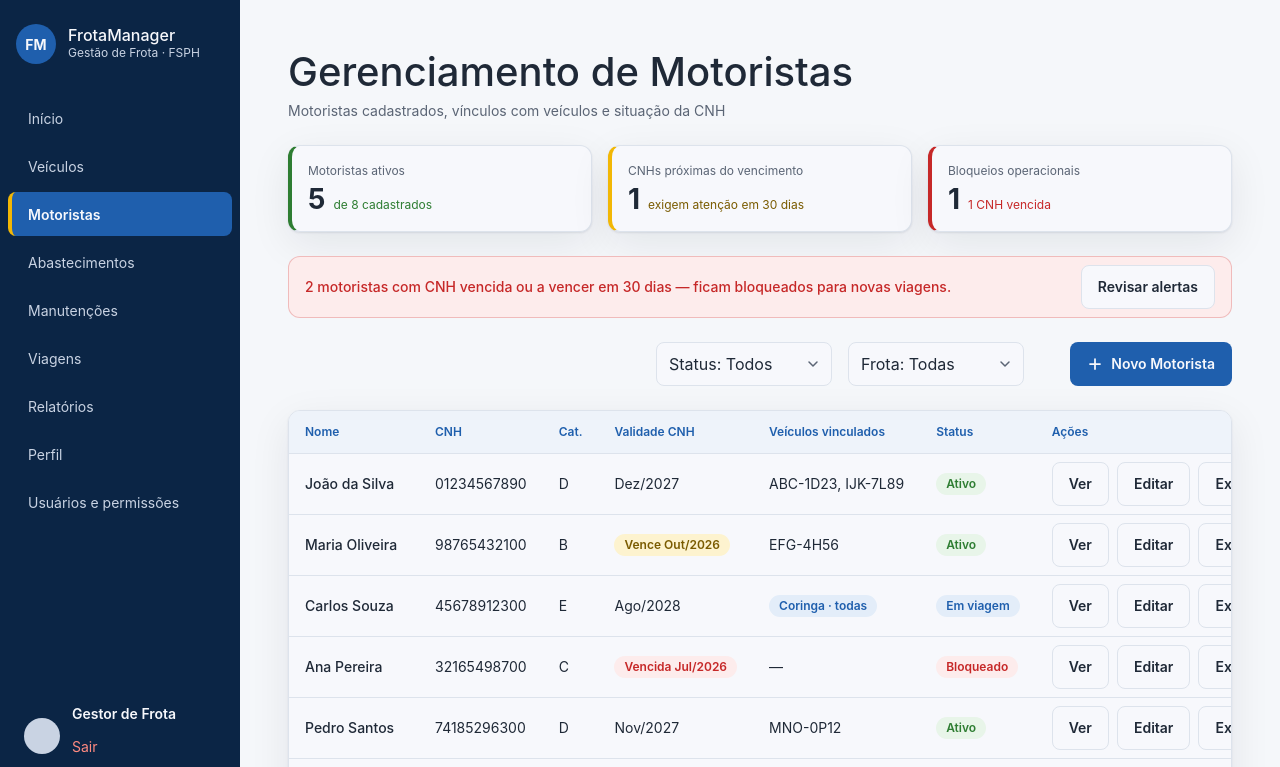
"Revisar alertas" mostra só quem tem CNH vencida ou a vencer
Click the button "Revisar alertas".
click(1148, 287)  # box [1081, 265, 1215, 309]
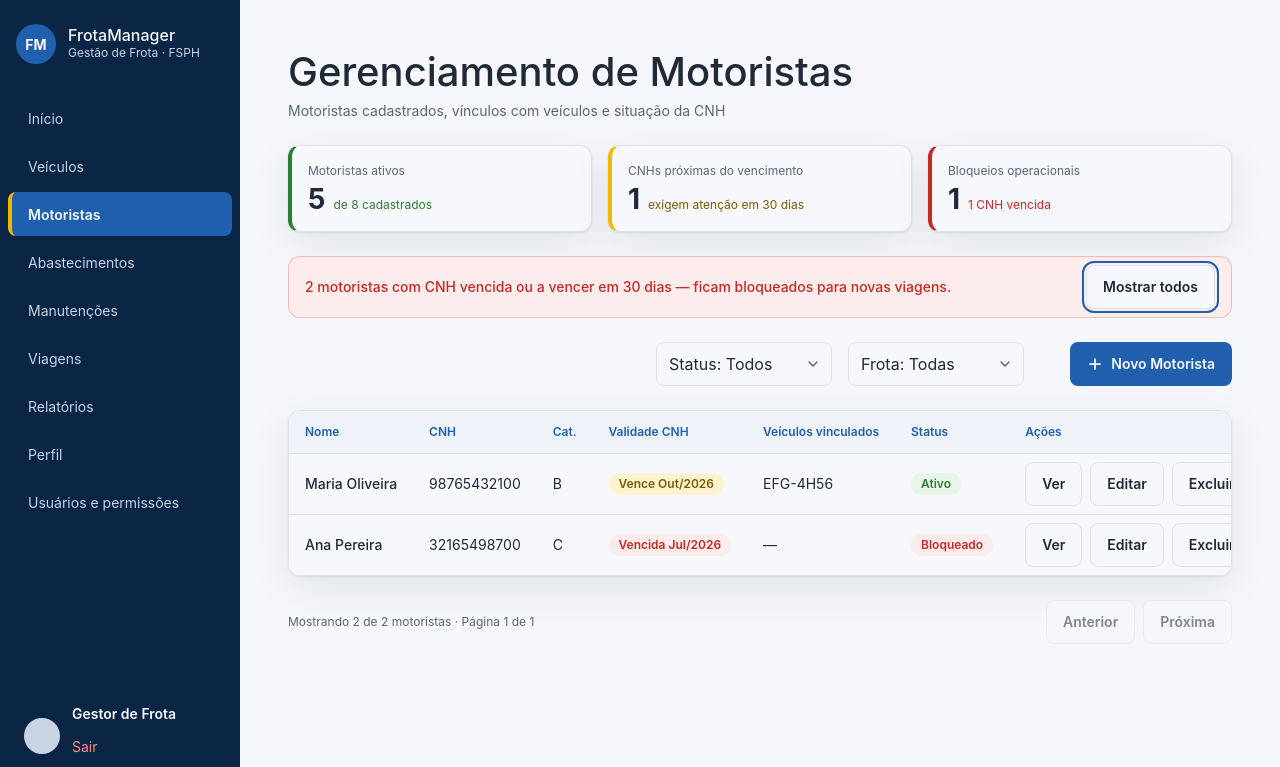
Now the button "Mostrar todos" is shown, box [1086, 265, 1215, 309]
